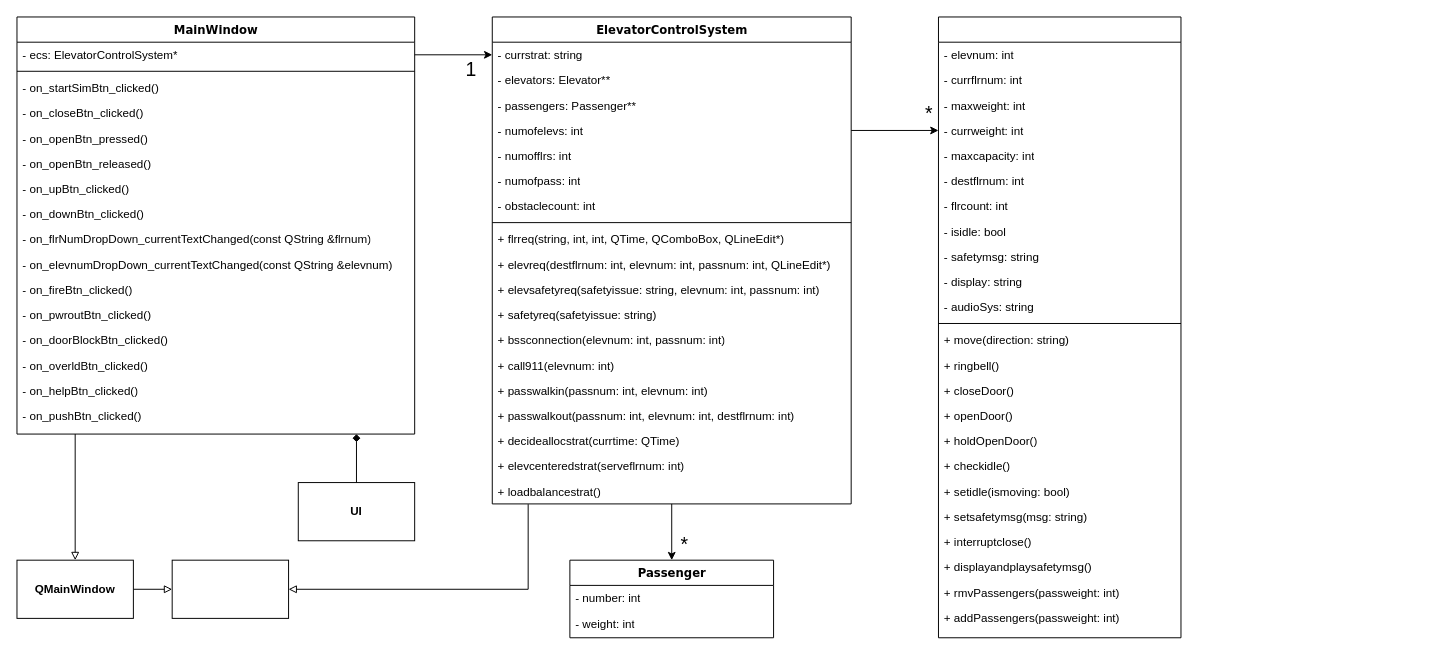
The diagram is 1431 pixels wide and 656 high, and some of its shapes have lost their labels. The shapes that lost their labels are listed below. From the top down, each one's box as (x1, y1, x2, y2) in pixels, then its label:
(938, 16, 1181, 638): Elevator
(171, 559, 289, 618): QObject
